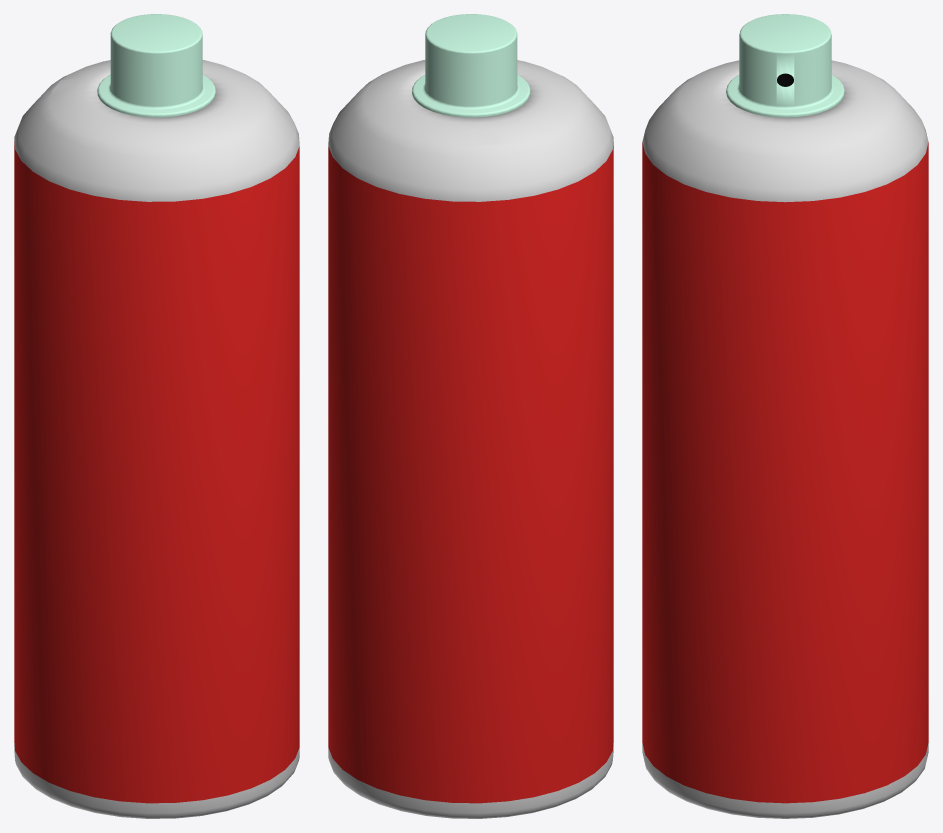
File: SprayBottle.fbx
The picture shows the model from 3 angles, left to right: view 1: azimuth 30°, elevation 25°; view 2: azimuth 150°, elevation 25°; view 3: azimuth 270°, elevation 25°; orthographic projection.
Visible parts, largest first — view 1: Cylinder; view 2: Cylinder; view 3: Cylinder.
Boxes of the visible parts, bbox=[...] form: Cylinder: bbox=[14, 14, 299, 818]; Cylinder: bbox=[328, 14, 613, 818]; Cylinder: bbox=[642, 14, 928, 818].
Bounding box in the file's own units: 6.5 × 18.26 × 6.5.
